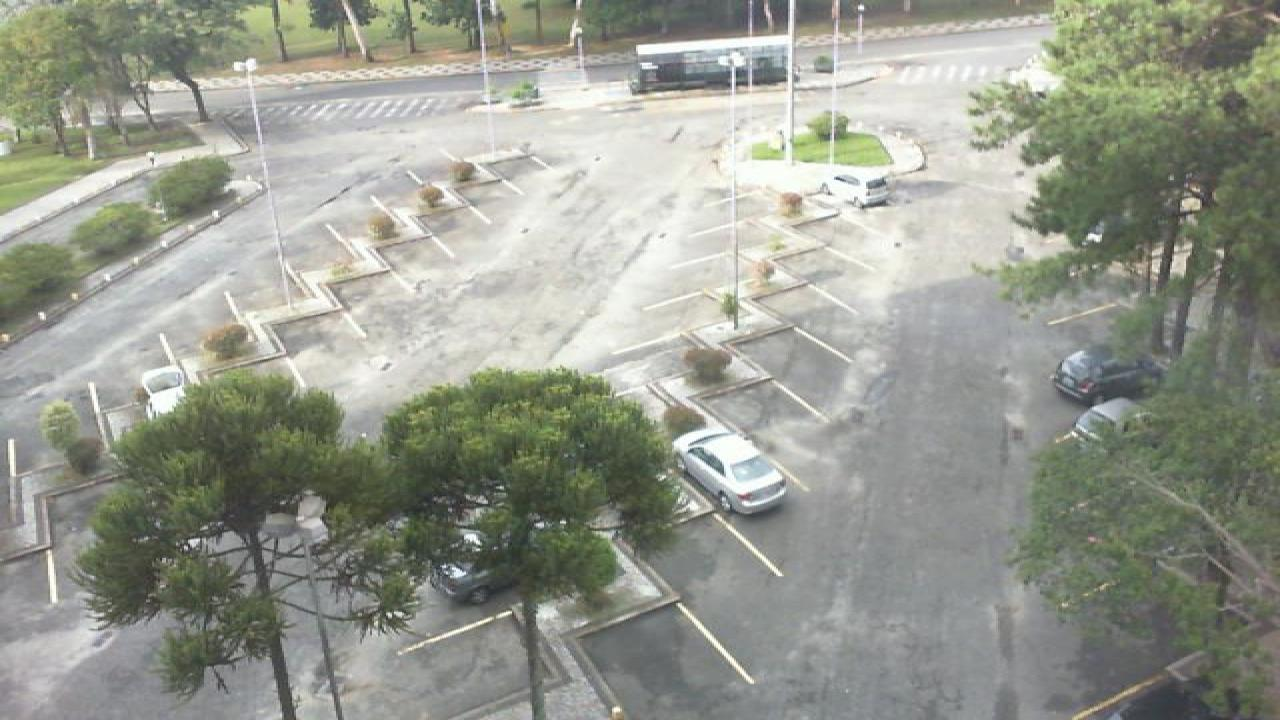Car: (670, 426, 790, 516), (1052, 345, 1152, 404), (422, 544, 510, 606), (1070, 396, 1156, 446), (136, 364, 192, 416), (816, 170, 892, 207)
